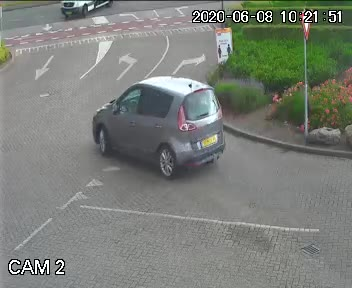car: (62, 66, 252, 176), (48, 0, 117, 29)
